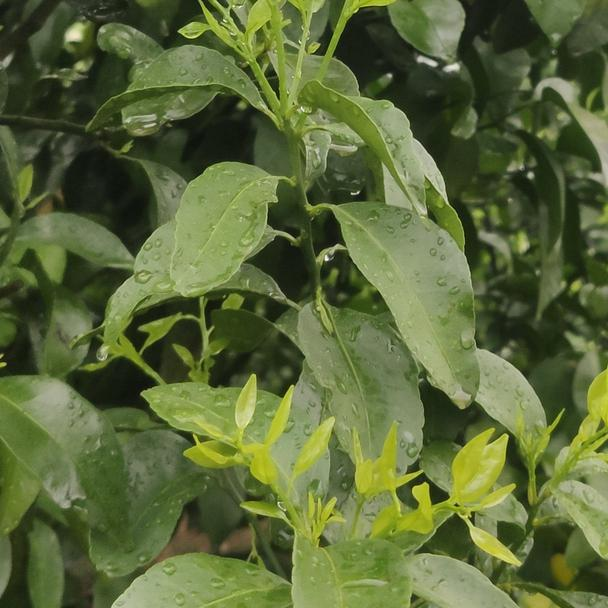shoot: (199, 382, 336, 543), (380, 445, 526, 556), (343, 432, 406, 540)
